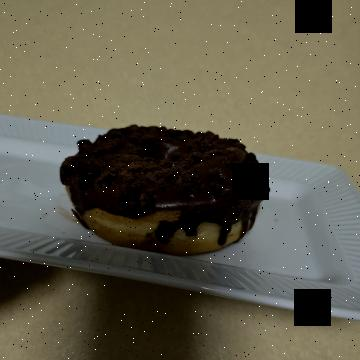doughnut: (99, 91, 260, 317)
